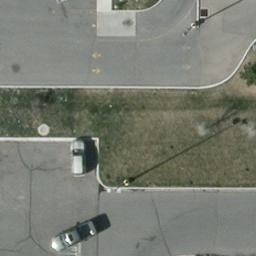car: (71, 142, 91, 177)
pickup: (51, 219, 97, 250)
